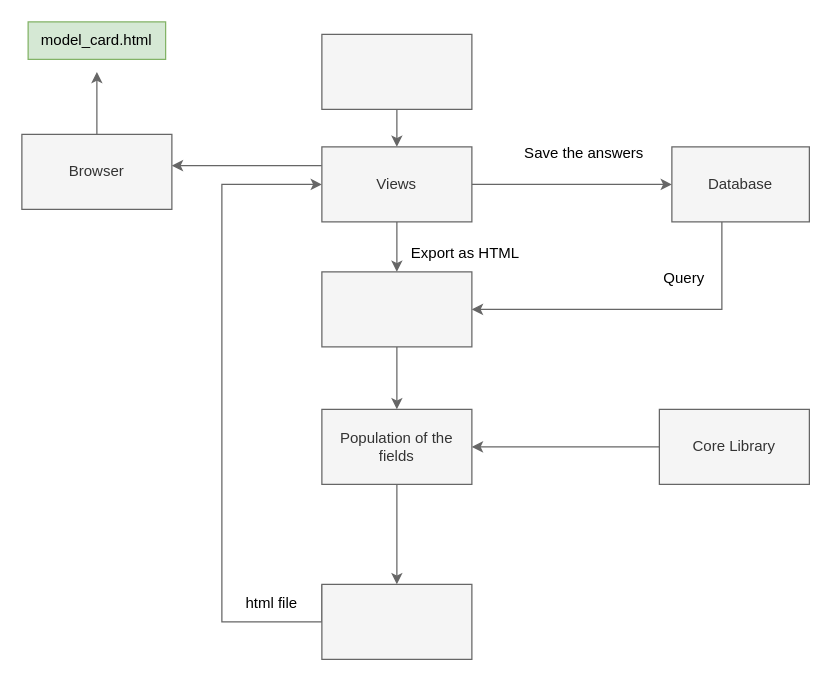
Image size: 831x681. Some labels were removed from this diagram. The shapes that lost their labels are listed below. From the top down, each one's centre as x and y in pixels, then its label:
At [396,71]: "Inputs in the interface".
At [396,309]: "create_model_card".
At [396,621]: "Jinja template".
